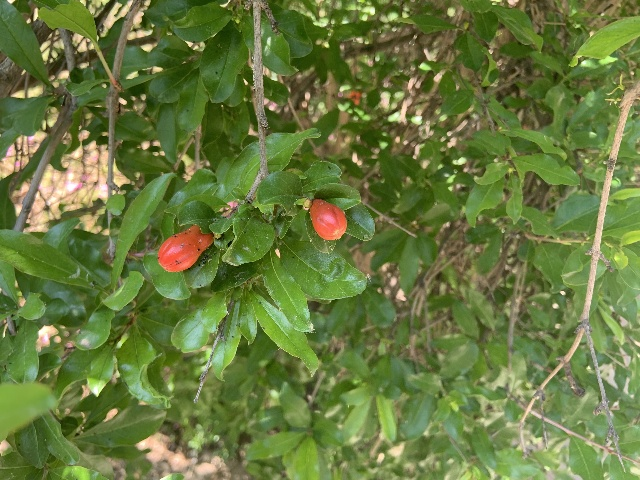bud: (157, 224, 213, 273), (310, 199, 346, 240)
